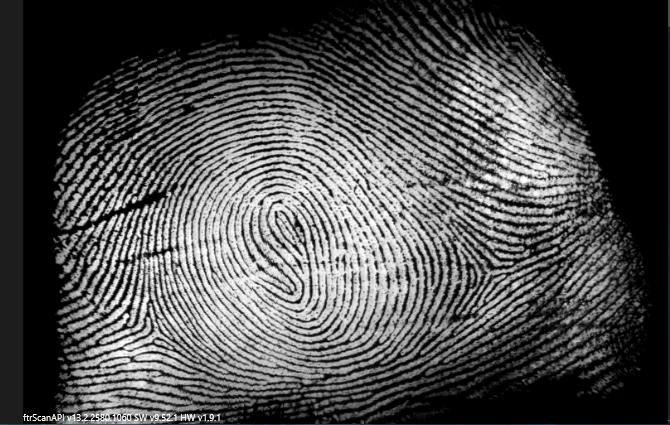nucelo: (260, 202, 313, 252)
verticilo: (471, 257, 514, 287), (137, 317, 176, 350)
